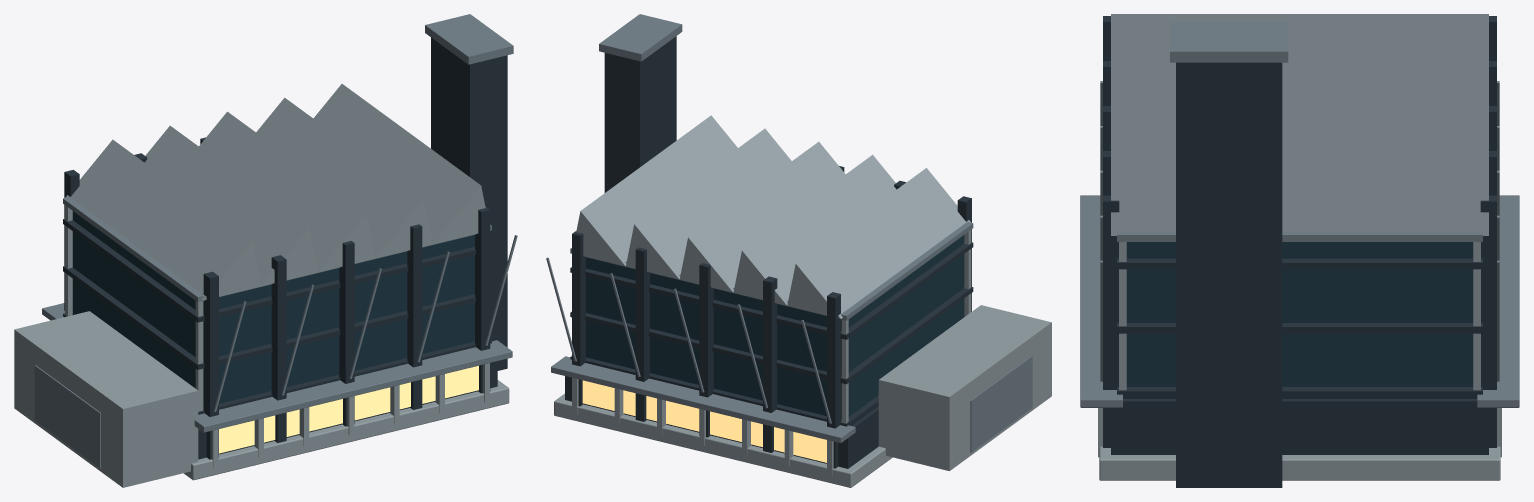
The model's file is vrx_city_works_b_LOD0.fbx.
3 views of the same model, side by side, from view 1: azimuth 30°, elevation 25°; view 2: azimuth 150°, elevation 25°; view 3: azimuth 270°, elevation 25° (orthographic). The views are drawn at different scales.
Visible parts, largest first — view 1: vrx_city_works_b_LOD0; view 2: vrx_city_works_b_LOD0; view 3: vrx_city_works_b_LOD0.
Boxes of the visible parts, x1,y1,x2,y2 form: vrx_city_works_b_LOD0: [14, 14, 517, 487]; vrx_city_works_b_LOD0: [546, 14, 1051, 487]; vrx_city_works_b_LOD0: [1080, 14, 1519, 487].
Bounding box in the file's own units: 55.17 × 42 × 37.2.
